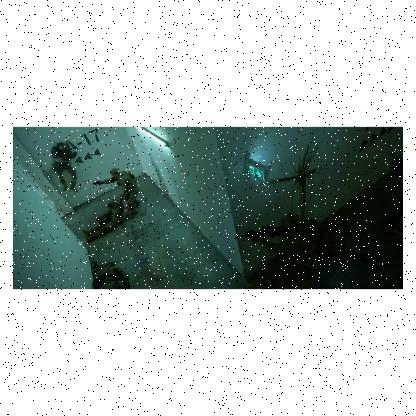gun: (90, 178, 100, 186)
